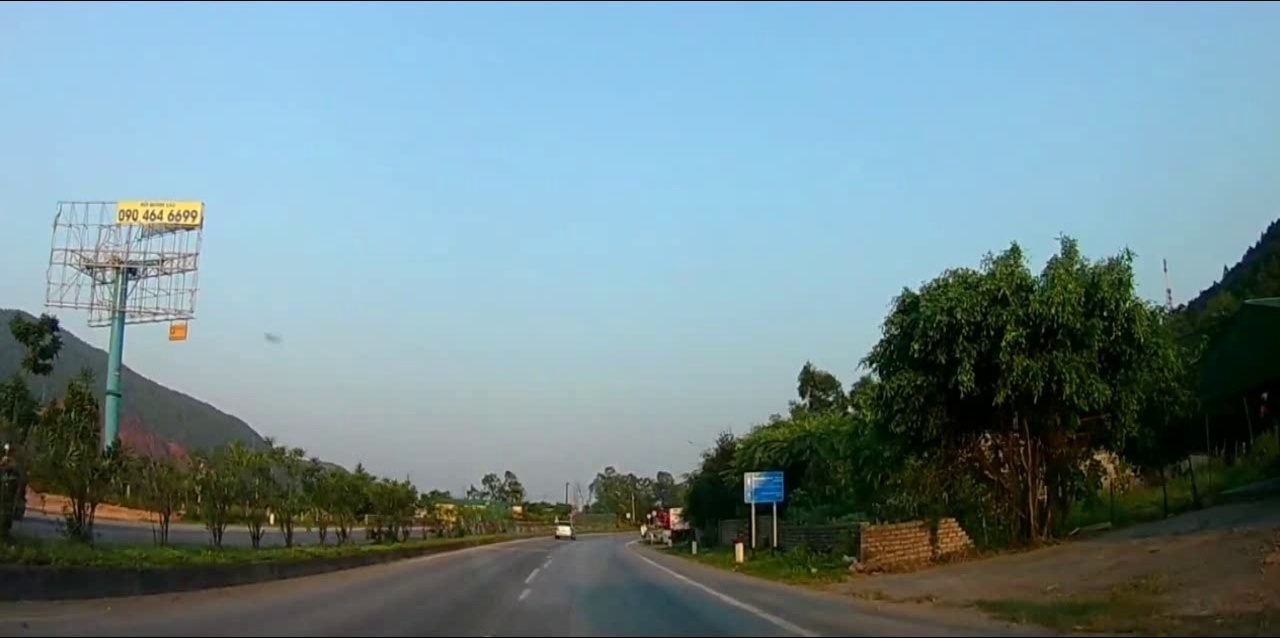Bien khac: (744, 470, 784, 505)
